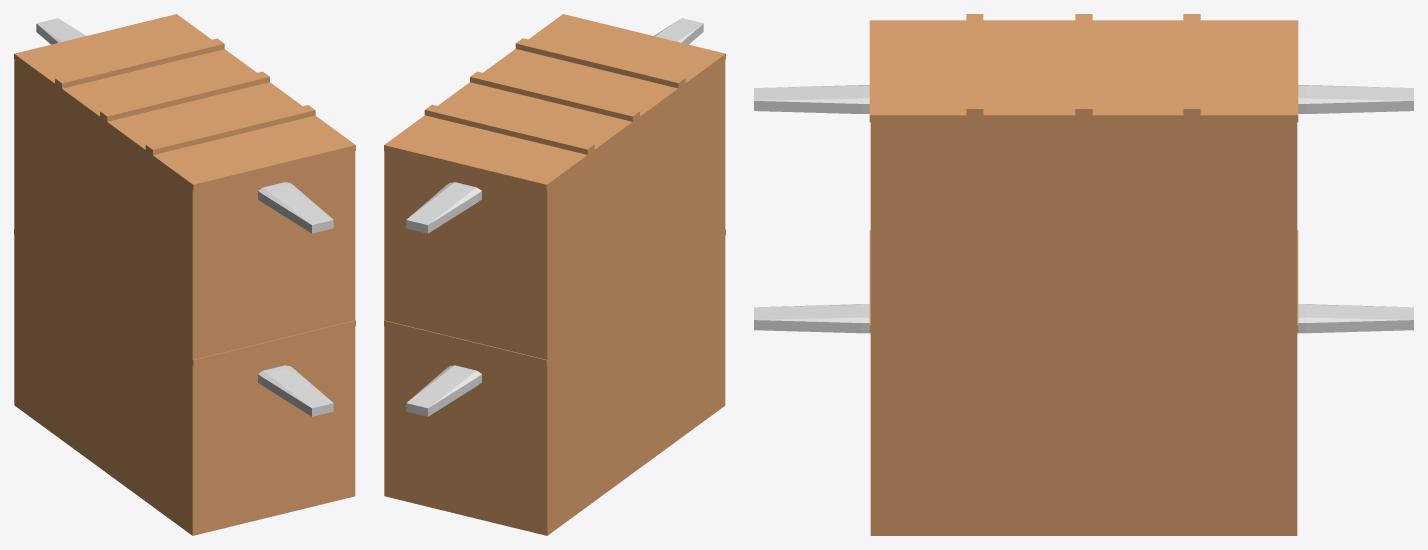
Rendered from BoxMedium.fbx.
The picture shows the model from 3 angles, left to right: view 1: azimuth 30°, elevation 25°; view 2: azimuth 150°, elevation 25°; view 3: azimuth 270°, elevation 25°; orthographic projection. The views are drawn at different scales.
Visible parts, largest first — view 1: Cube.001, Cube.002, Cube.006, Cube.004, Cube.005, Cube.003, Cube; view 2: Cube.001, Cube.002, Cube.006, Cube.004, Cube.005, Cube.003, Cube; view 3: Cube.001, Cube.002, Cube.006, Cube, Cube.005, Cube.004, Cube.003.
Boxes of the visible parts, x1,y1,x2,y2 form: Cube.001: (14, 235, 355, 535); Cube.002: (14, 60, 355, 359); Cube.006: (14, 14, 355, 190); Cube.004: (55, 38, 315, 155); Cube.005: (36, 18, 333, 233); Cube.003: (14, 229, 355, 365); Cube: (258, 365, 333, 416); Cube.001: (384, 235, 725, 535); Cube.002: (384, 60, 725, 359); Cube.006: (384, 14, 725, 190); Cube.004: (424, 38, 685, 154); Cube.005: (406, 18, 703, 233); Cube.003: (384, 229, 725, 365); Cube: (406, 365, 481, 416); Cube.001: (870, 332, 1297, 535); Cube.002: (870, 122, 1297, 325); Cube.006: (869, 20, 1298, 122); Cube: (754, 304, 1413, 333); Cube.005: (754, 85, 1413, 113); Cube.004: (966, 14, 1200, 115); Cube.003: (869, 230, 1298, 332).
Size of the model in its own units: 515 by 1078 by 1510.
